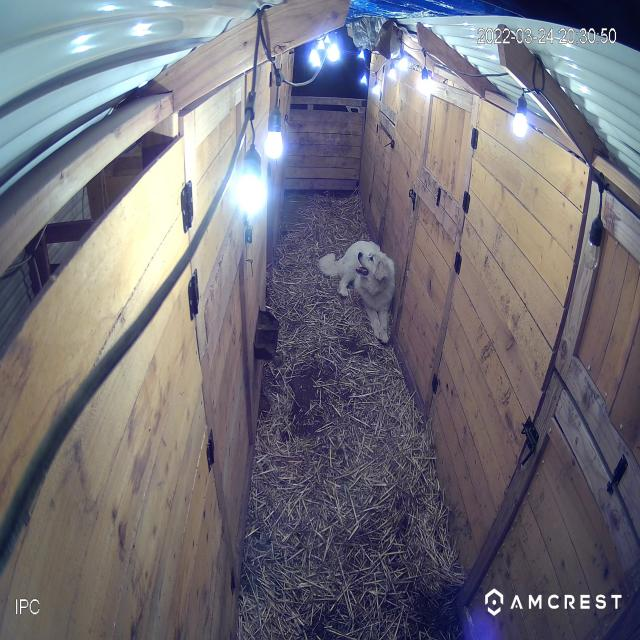gaurd dog: (314, 224, 402, 346)
